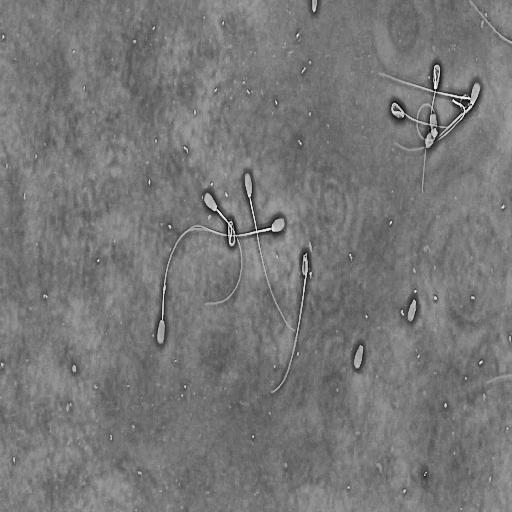coiled-tail: (422, 64, 440, 193), (391, 102, 465, 128), (227, 218, 237, 248), (228, 221, 235, 245), (393, 104, 404, 113), (435, 66, 439, 86)
distal-droplet: (162, 283, 166, 292)
folded-tail: (271, 253, 308, 394)
loose-head: (352, 342, 365, 371), (407, 297, 418, 324)
loose-tail: (377, 71, 471, 102)
normal: (242, 169, 297, 336), (155, 225, 205, 349), (269, 248, 310, 394), (201, 189, 245, 309), (419, 60, 442, 202), (389, 95, 467, 132), (189, 213, 288, 239)
